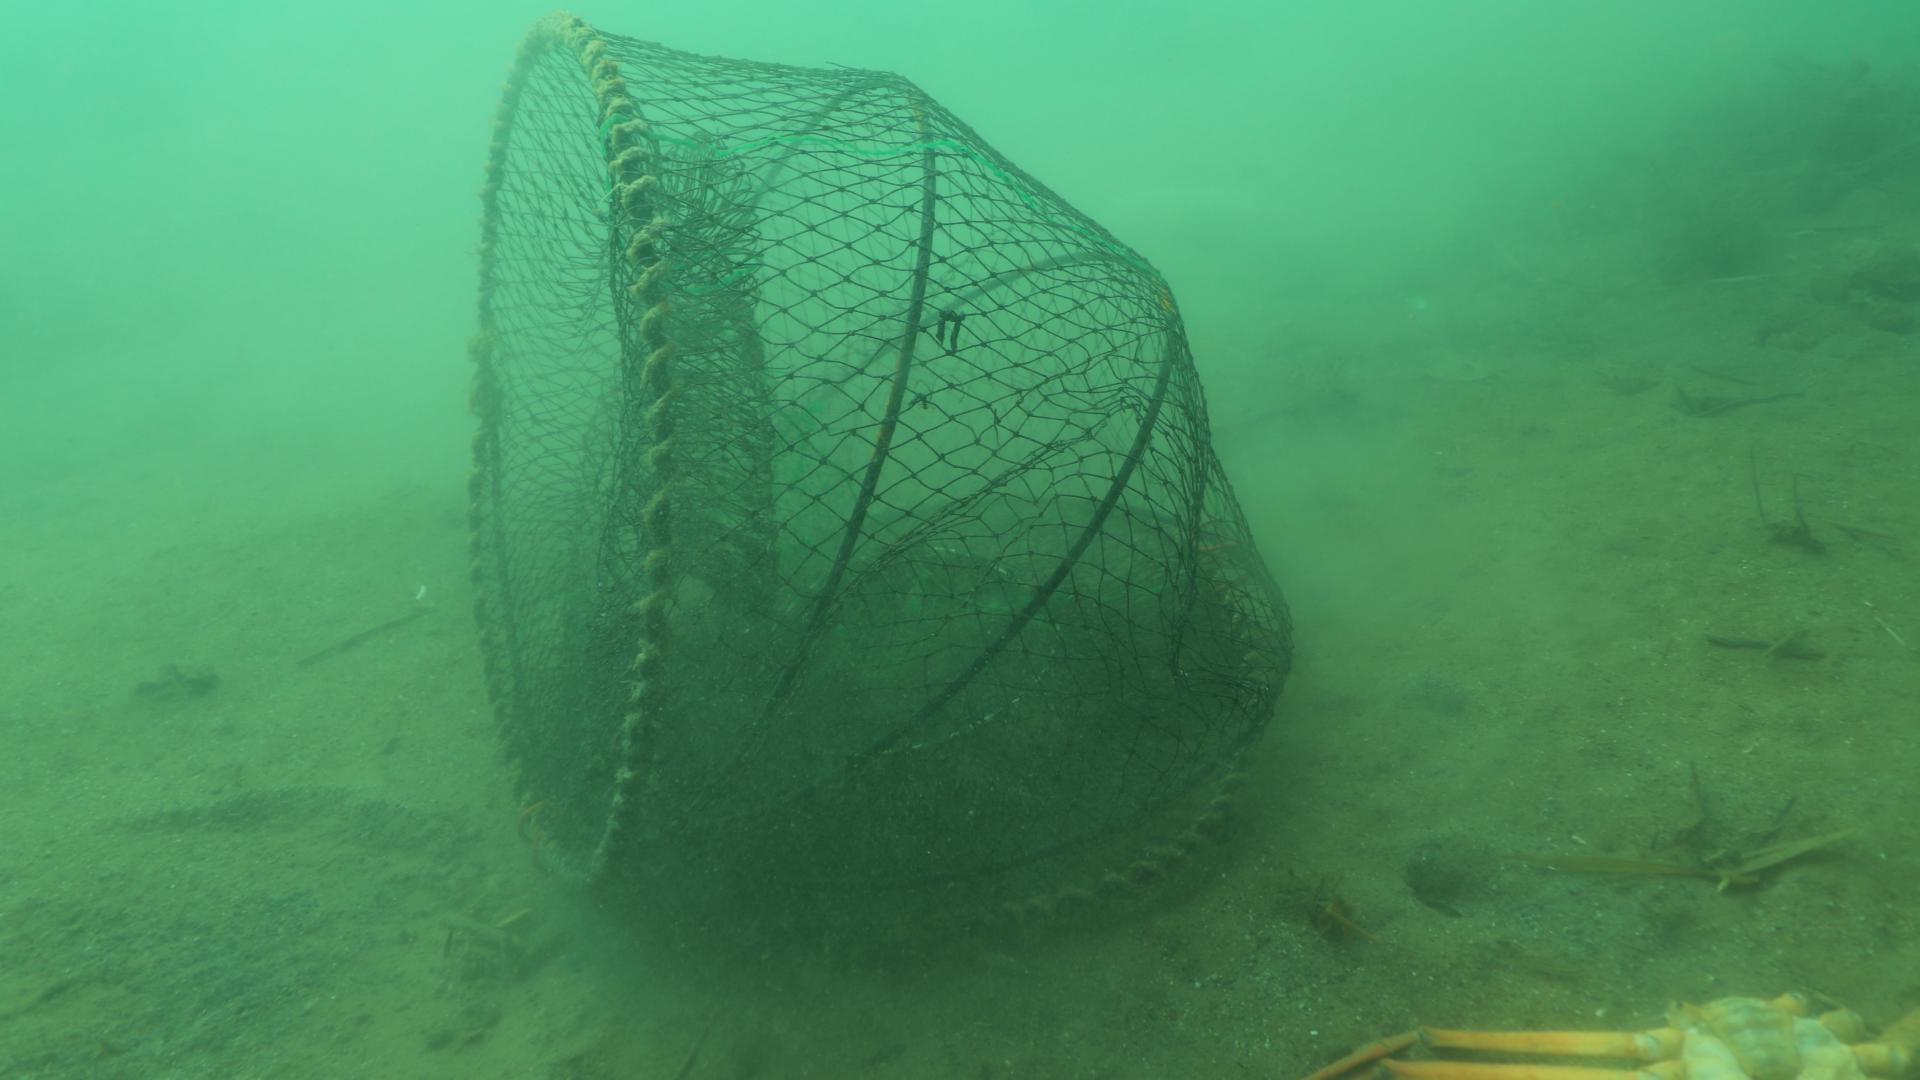spring fish trap: (465, 8, 1295, 953)
